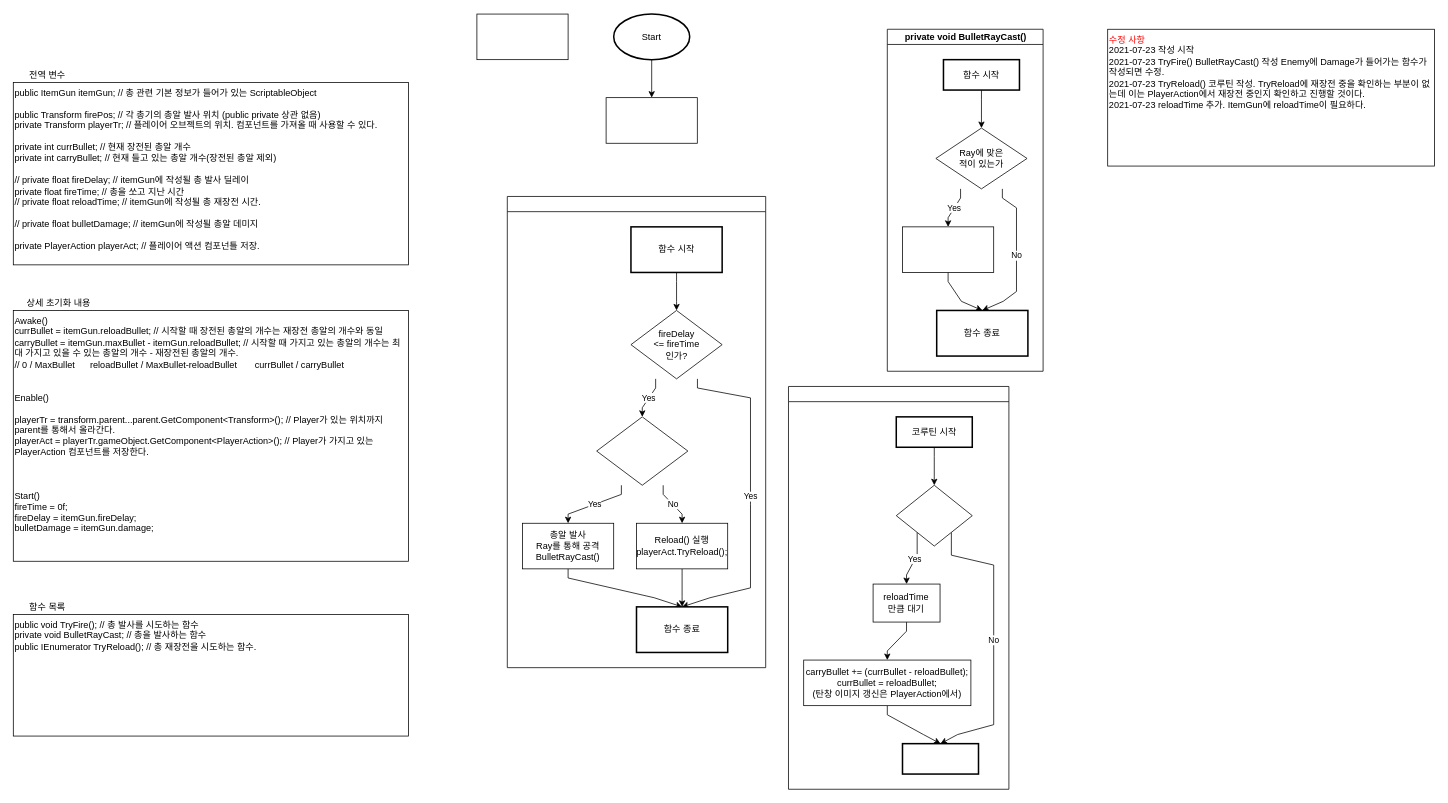
Some shapes in this 1448 by 803 pixel diagram are drawn without their labels. Each missing label, with the box of its shape:
currBullet < reloadBullet 인가?: (896, 484, 972, 546)
currBullet > 0 인가?: (596, 416, 688, 485)
GunsScr.cs 모든 총기류에 들어가있을 스크립트: (476, 13, 568, 60)
public IEnumerator TryReload(): (788, 386, 1009, 789)
public void TryFire(): (507, 196, 766, 668)
적에게 데미지가 들어가는 함수(동작) 실행 (수정 필요): (902, 226, 994, 272)
초기화: (605, 97, 697, 143)
코루틴 종료: (901, 743, 979, 774)
